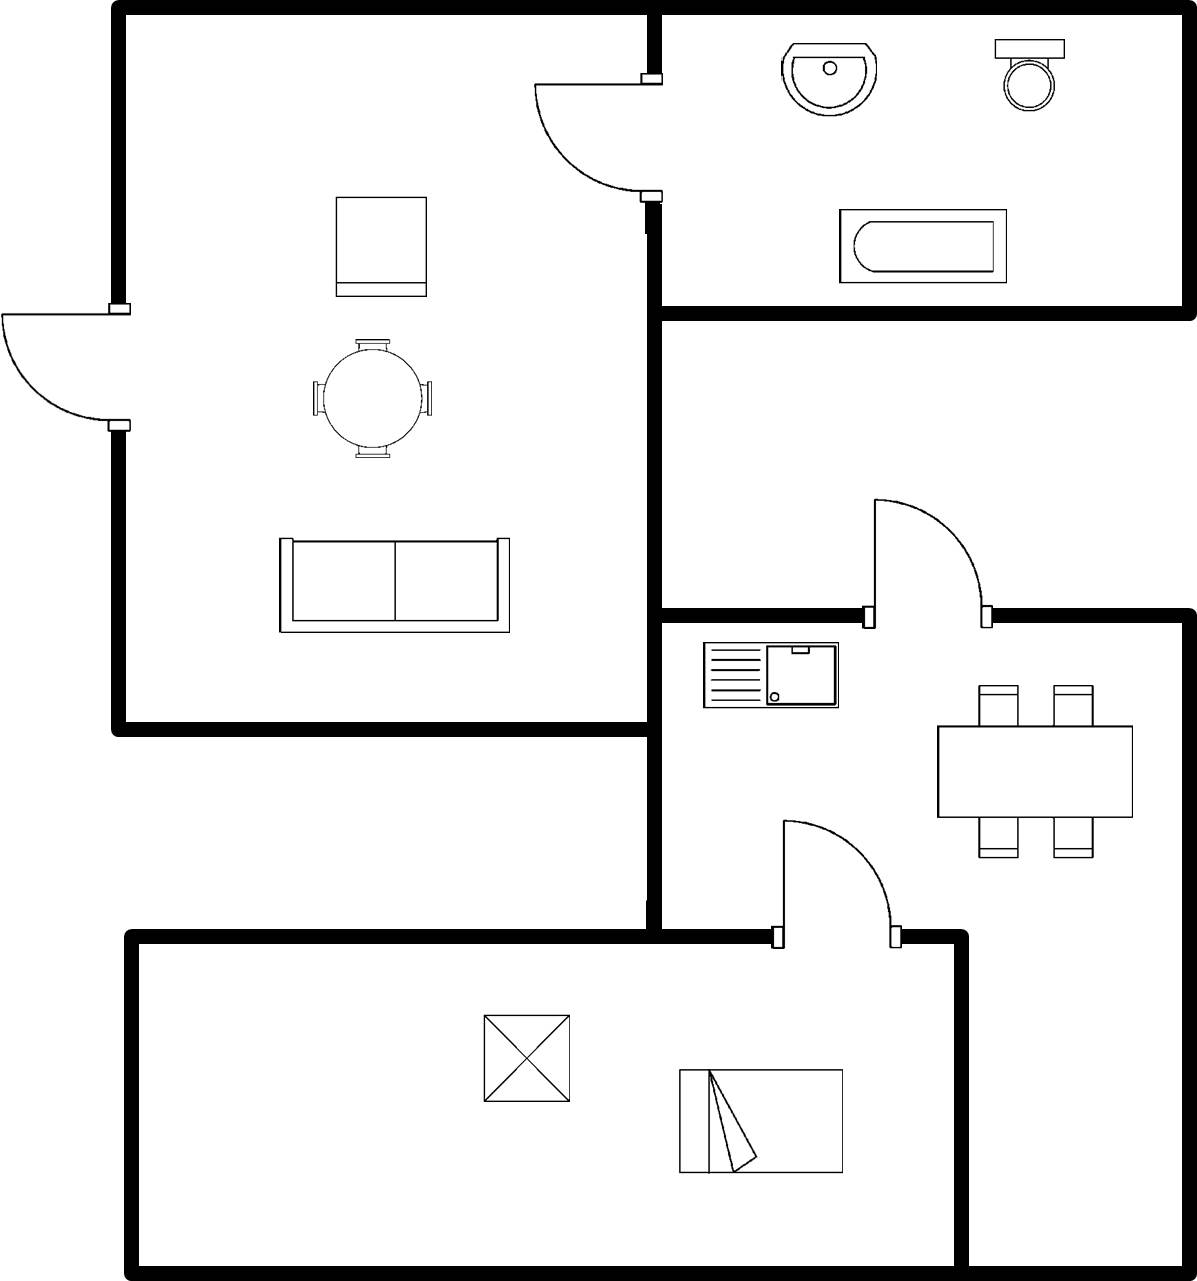bed: (668, 1054, 851, 1190)
coffee_table: (475, 1009, 583, 1111)
dining_table: (920, 670, 1144, 865)
large_sink: (980, 30, 1073, 118)
large_sofa: (270, 526, 533, 646)
round_table: (304, 330, 444, 468)
sink: (695, 635, 849, 719)
small_sink: (768, 35, 881, 123)
small_sofa: (324, 189, 439, 305)
tub: (826, 201, 1015, 294)
